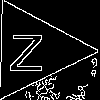Z: (9, 25, 44, 72)
